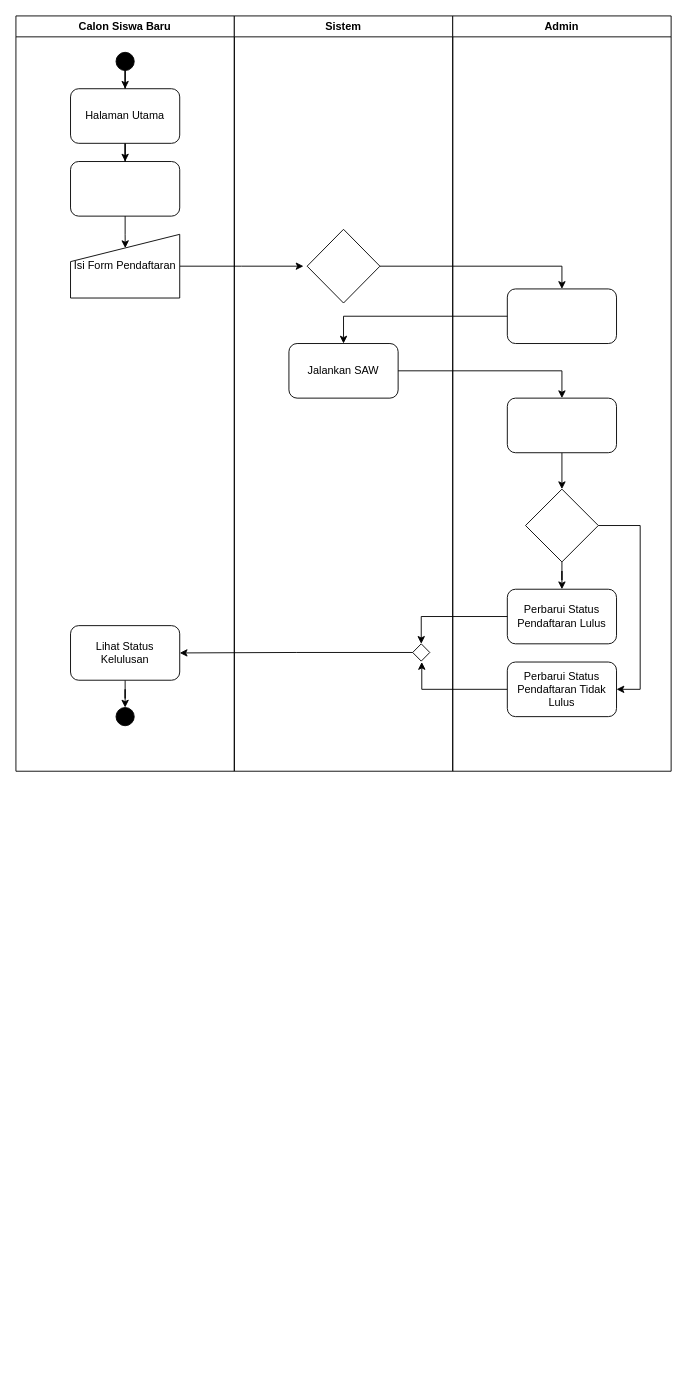
Some shapes in this 687 by 1379 pixel diagram are drawn without their labels. Each missing label, with the centre of its shape:
"Halaman Informasi PPDB" belongs at pixel 125 188.
"Lihat Data Pendaftar" belongs at pixel 561 316.
"Lihat Hasil Perankingan SAW" belongs at pixel 561 425.
"Lulus?" belongs at pixel 561 525.
"Valid?" belongs at pixel 343 265.
